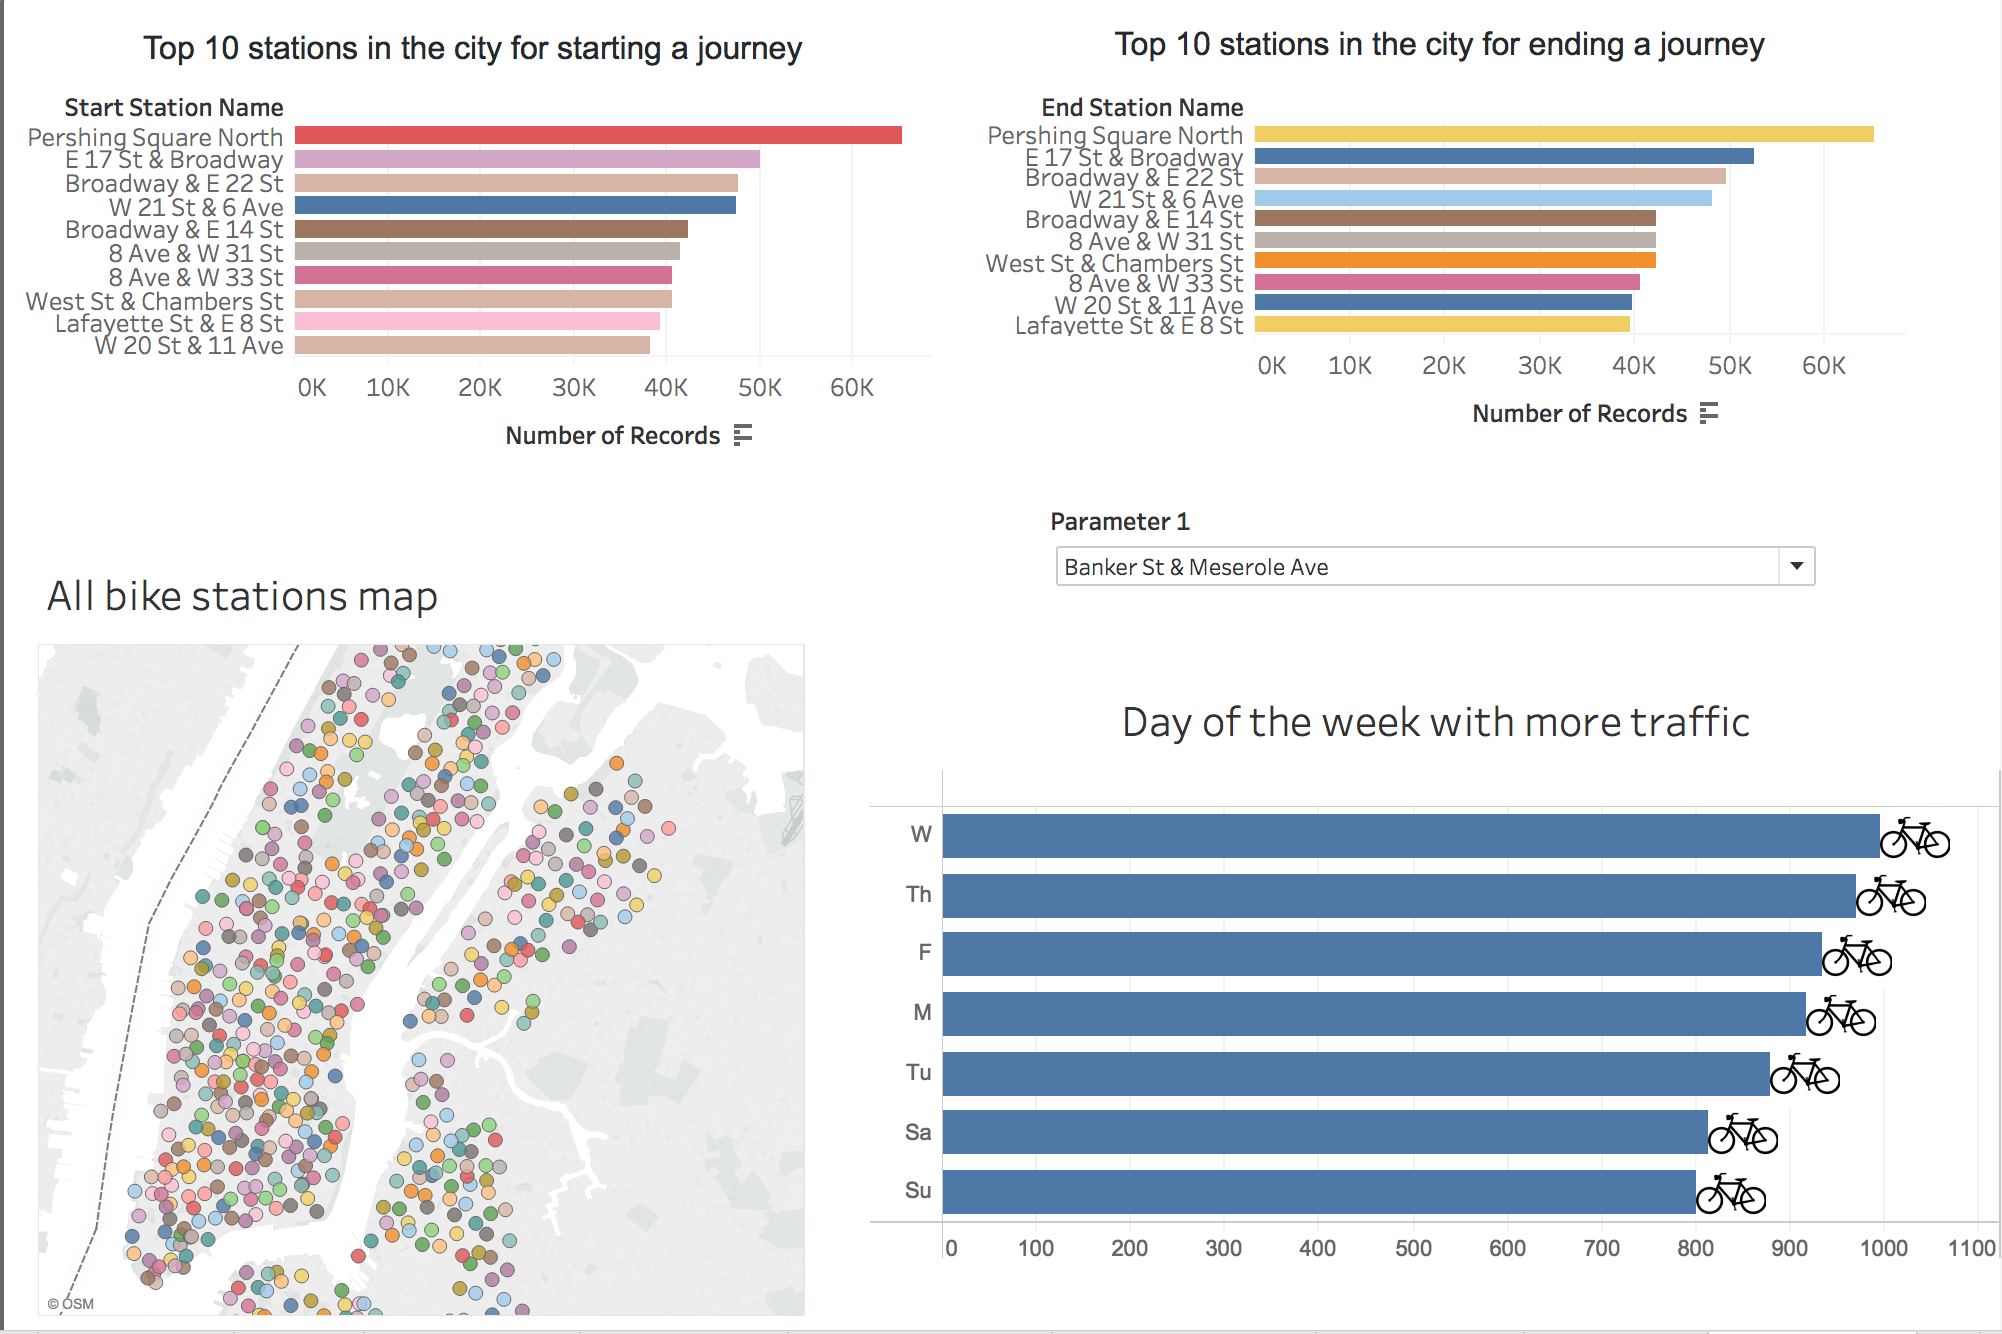

This screenshot's page, from the dashboard's own definition file:
{"tool":"tableau","page":{"name":"Dashboard 2","canvas":[1000,700],"ordinal":1},"visuals":[{"type":"worksheet","title":"Top 10 to End","mark":"Automatic","rows":["end station name"],"cols":["Number of Records"],"box":[487,13.1,466,214.4]},{"type":"worksheet","title":"Top 10 to Start","mark":"Automatic","rows":["start station name"],"cols":["Number of Records"],"box":[7,14.9,459,223.1]},{"type":"parameter","param":"[Parameters].[Parameter 1]","box":[525,255.5,386,104.1]},{"type":"worksheet","title":"All bike stations map","mark":"Multipolygon","rows":["start station latitude"],"cols":["start station longitude"],"box":[19,282.6,384,379.8]},{"type":"worksheet","title":"weekday trips","mark":"Shape","rows":["Calculation_739856991626362892"],"cols":["Number of Records","Number of Records"],"box":[435,345.6,566,287.9]}]}

Visuals, with their boxes on the page's 1000x700 design canvas (x1, y1, x2, y2). These are canvas units, not pixel positions in the 2002x1334 screenshot, which may show the page scaled, cropped or inside an application window:
"Top 10 to End" worksheet: box=[487, 13, 953, 228]
"Top 10 to Start" worksheet: box=[7, 15, 466, 238]
parameter: box=[525, 256, 911, 360]
"All bike stations map" worksheet (Multipolygon marks): box=[19, 283, 403, 662]
"weekday trips" worksheet (Shape marks): box=[435, 346, 1001, 634]
